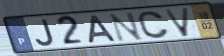2: (55, 14, 90, 48)
A: (88, 14, 119, 45)
C: (136, 10, 171, 40)
J: (34, 18, 57, 47)
N: (108, 11, 145, 43)
V: (162, 7, 192, 38)
